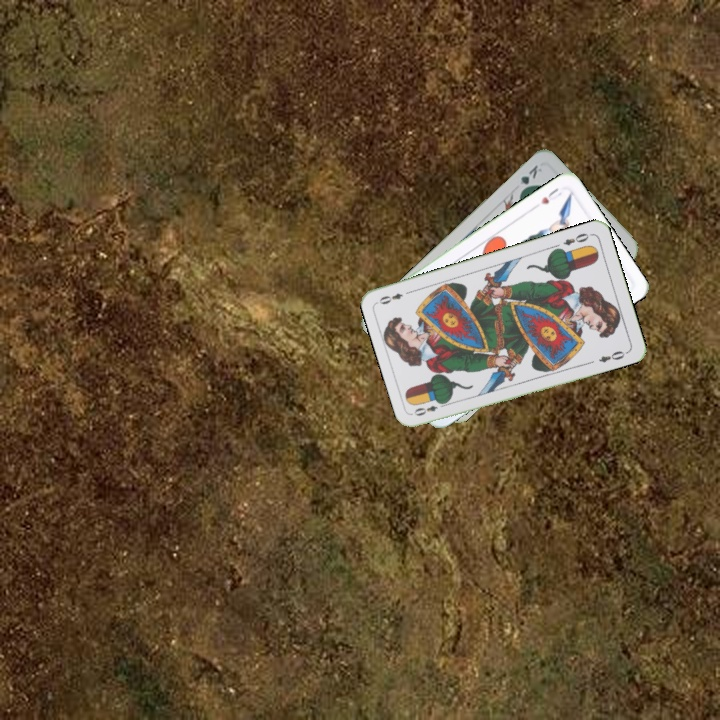EO: (410, 398, 449, 419), (559, 229, 591, 248)
GK: (515, 161, 545, 196)
HU: (537, 184, 564, 207)
